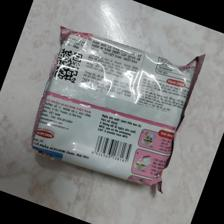Haohao: (32, 24, 206, 193)
